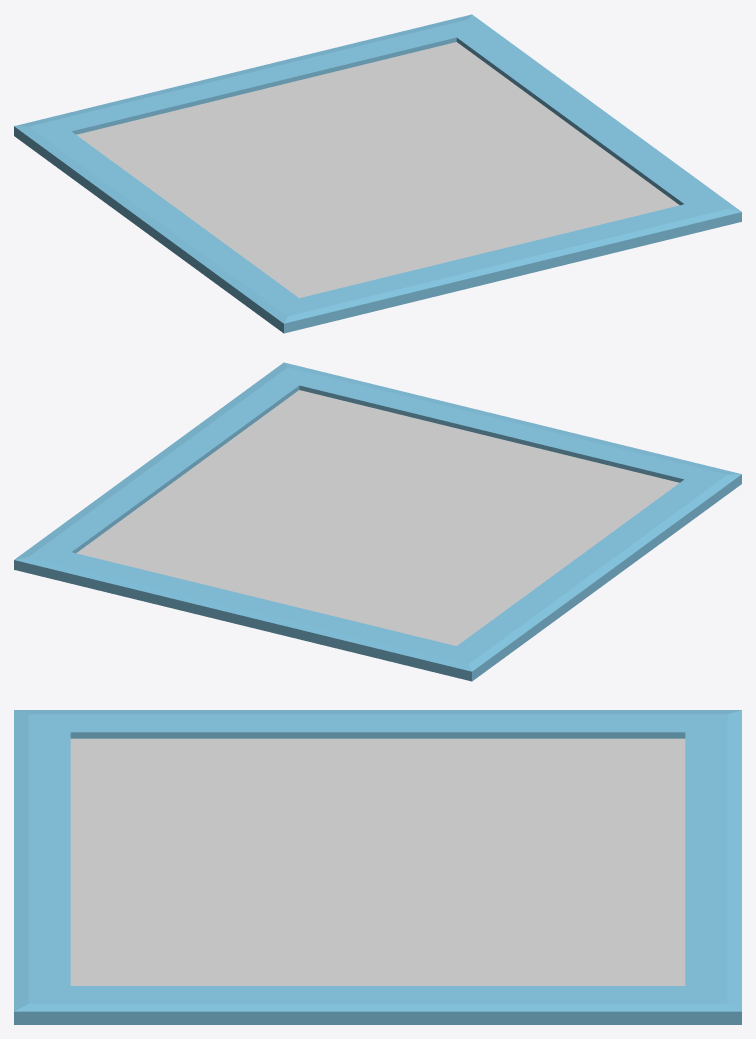
Rendered from Prop_Building_Eastern_Base_Floor_Roof_Block_01.FBX.
The picture shows the model from 3 angles, top to bottom: view 1: azimuth 30°, elevation 25°; view 2: azimuth 150°, elevation 25°; view 3: azimuth 270°, elevation 25°; orthographic projection. The views are drawn at different scales.
Parts seen in each view (by area): view 1: Prop_Building_Eastern_Base_Floor_Roof_Block_01; view 2: Prop_Building_Eastern_Base_Floor_Roof_Block_01; view 3: Prop_Building_Eastern_Base_Floor_Roof_Block_01.
Boxes of the visible parts, x1,y1,x2,y2 form: Prop_Building_Eastern_Base_Floor_Roof_Block_01: (14, 14, 741, 333); Prop_Building_Eastern_Base_Floor_Roof_Block_01: (14, 362, 741, 681); Prop_Building_Eastern_Base_Floor_Roof_Block_01: (14, 710, 741, 1024).
Size of the model in its own units: 5398 by 125 by 5508.
